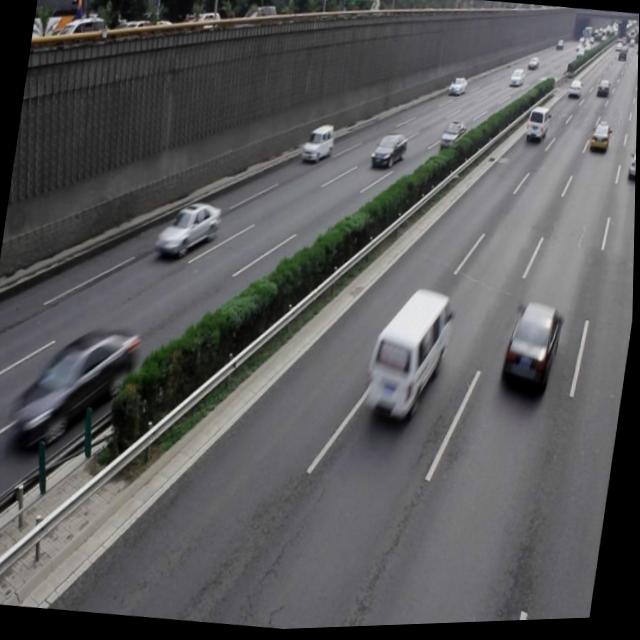car: (10, 313, 145, 457), (499, 300, 564, 404), (154, 194, 224, 263), (370, 131, 407, 173), (301, 125, 336, 166), (626, 150, 637, 185)
truck: (364, 285, 456, 425)
